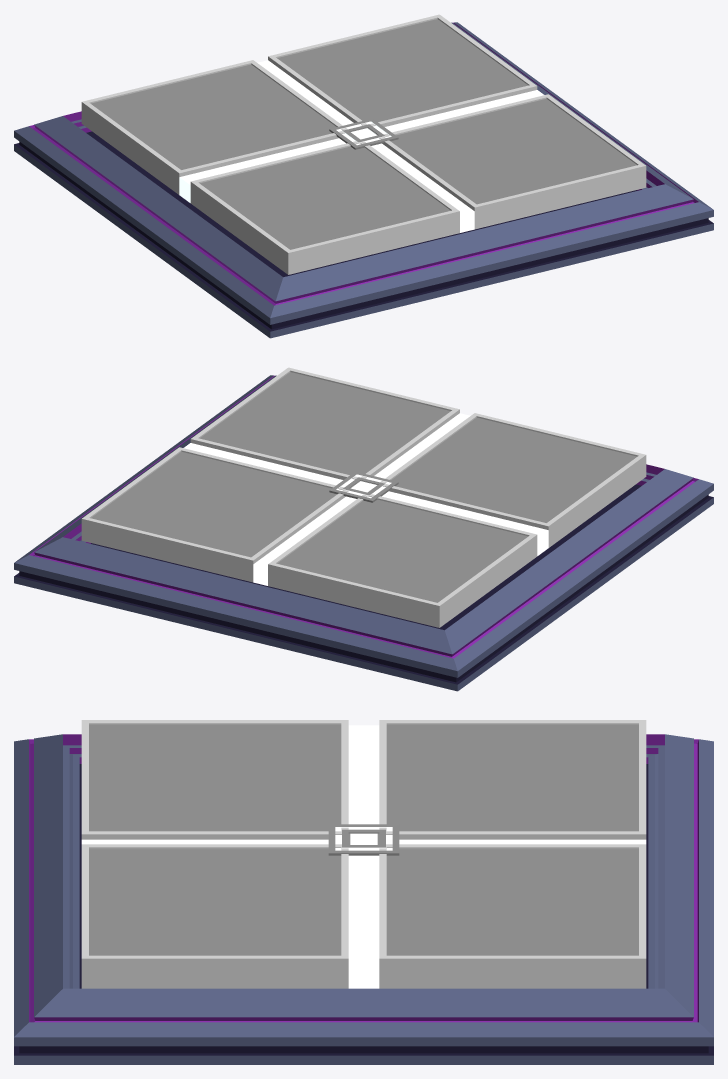
Rendered from Boton.fbx.
3 views of the same model, one above another, from view 1: azimuth 30°, elevation 25°; view 2: azimuth 150°, elevation 25°; view 3: azimuth 270°, elevation 25° (orthographic). The views are drawn at different scales.
Visible parts, largest first — view 1: Boton01, Boton; view 2: Boton01, Boton; view 3: Boton01, Boton.
Part boxes in pixels (box(x1,y1,x2,y2)): Boton01: box(81, 14, 646, 274); Boton: box(14, 22, 713, 338); Boton01: box(81, 367, 646, 627); Boton: box(14, 375, 713, 691); Boton01: box(81, 720, 646, 988); Boton: box(14, 734, 713, 1064).
Size of the model in its own units: 0.9507 by 0.1173 by 0.9507.
